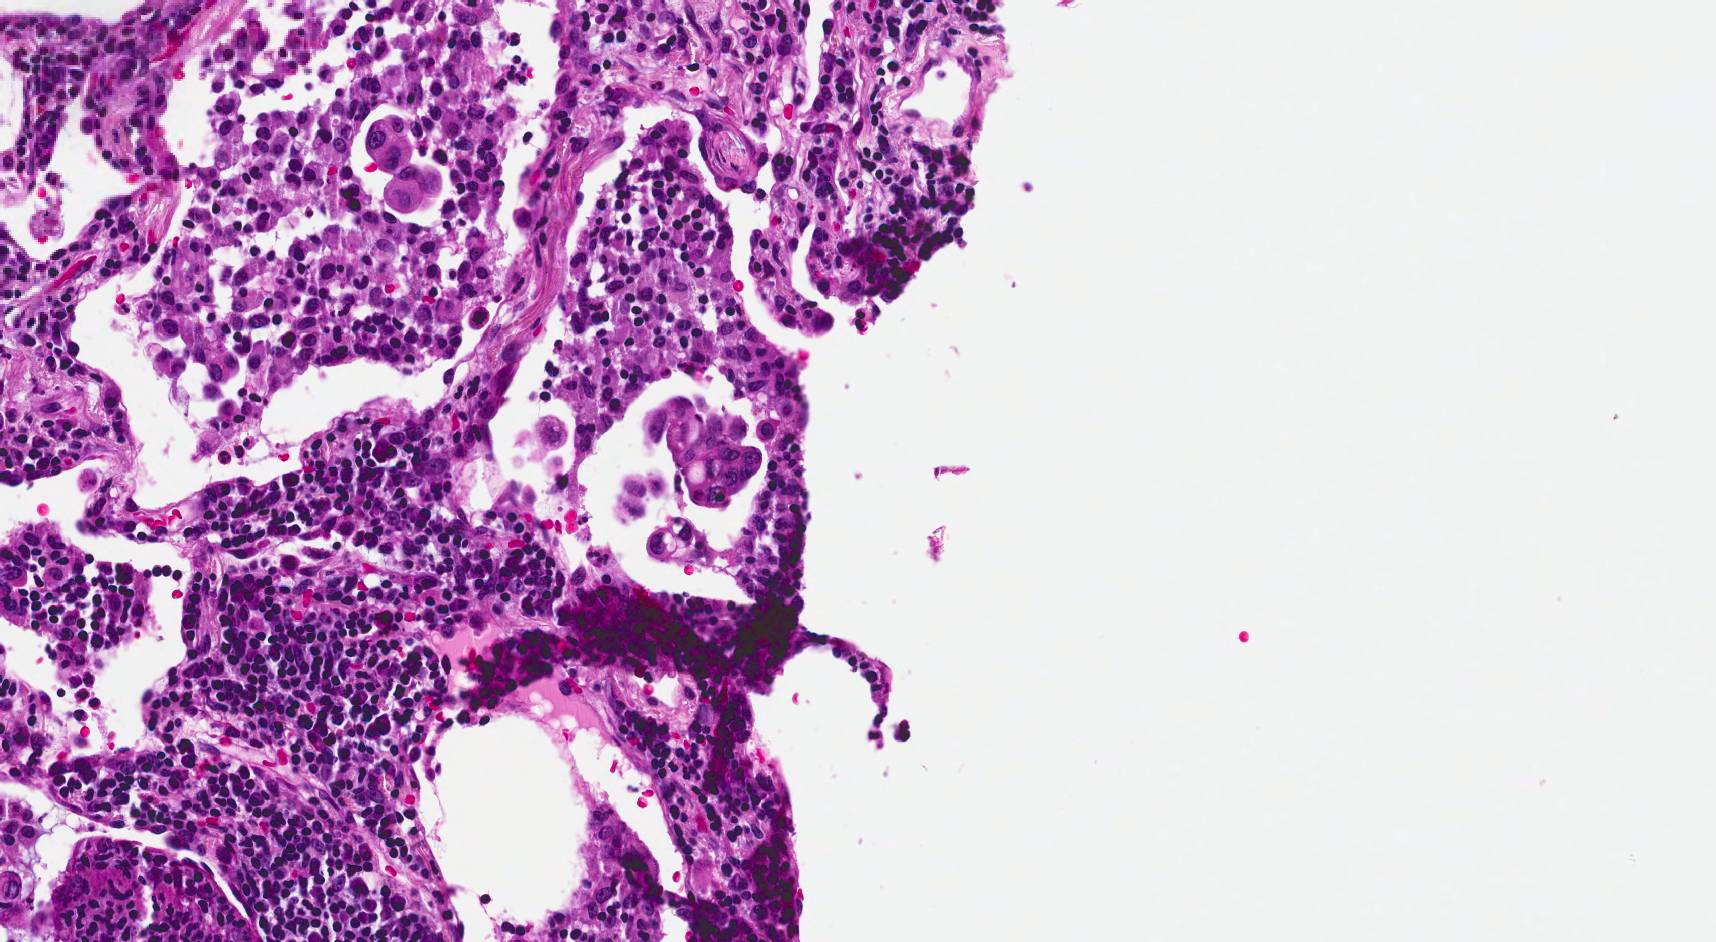stas: (641, 394, 765, 510), (367, 114, 443, 212), (645, 512, 717, 569)
